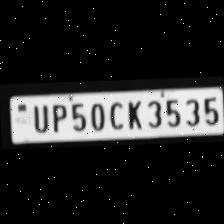0: (86, 98, 106, 130)
3: (143, 95, 163, 128), (182, 93, 200, 125)
5: (199, 92, 221, 124), (66, 99, 86, 132), (161, 94, 181, 126)
C: (104, 97, 124, 129)
K: (122, 97, 144, 130)
P: (47, 100, 67, 132)
U: (28, 101, 50, 132)
